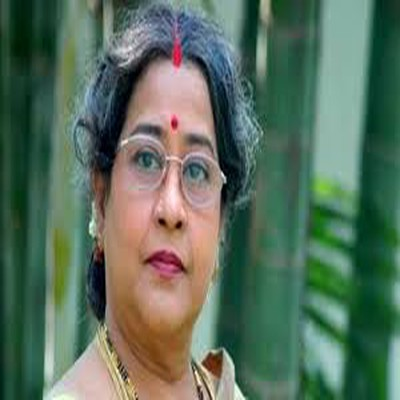eywear: (114, 127, 249, 217)
